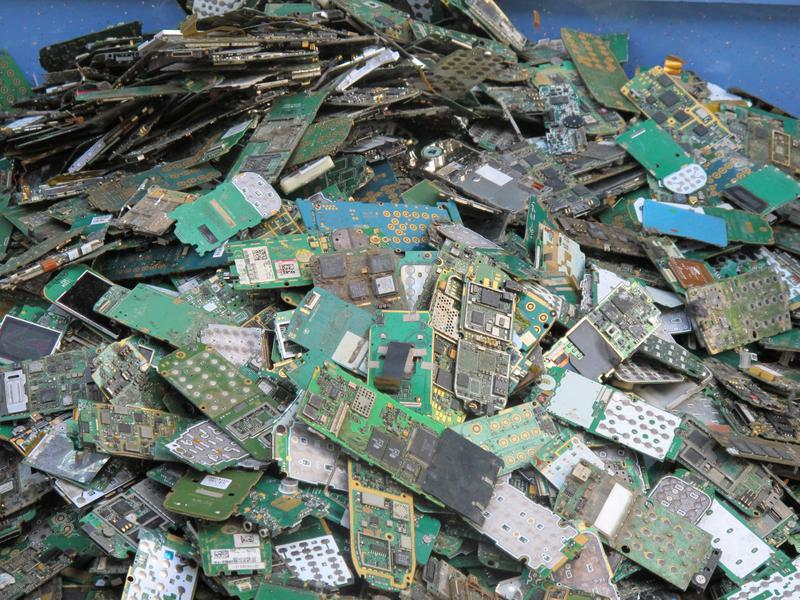circuit_board: (295, 353, 506, 526), (543, 448, 730, 594), (149, 337, 292, 473), (519, 358, 697, 463), (327, 457, 437, 595), (615, 64, 750, 170), (431, 269, 524, 413), (286, 188, 470, 257), (65, 394, 214, 473), (169, 168, 287, 263), (679, 258, 793, 355), (366, 300, 444, 414), (79, 473, 181, 560)
